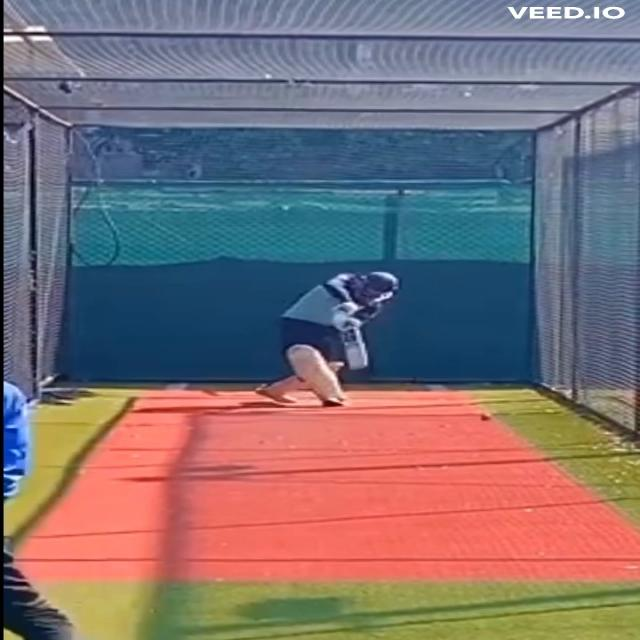ball: (474, 409, 498, 424)
